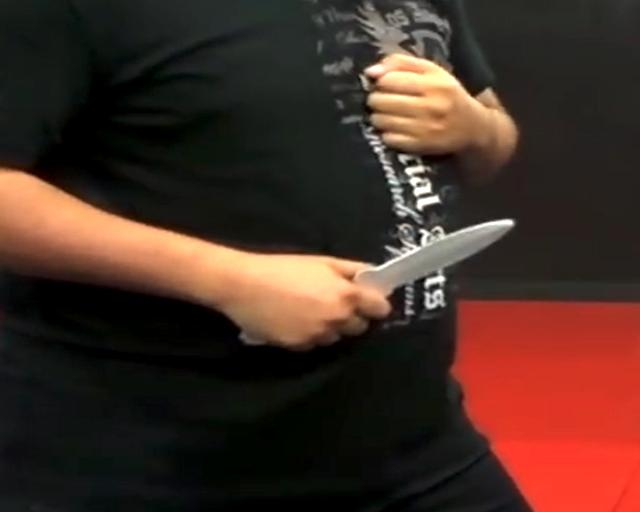pocket-knife: (248, 214, 514, 356)
